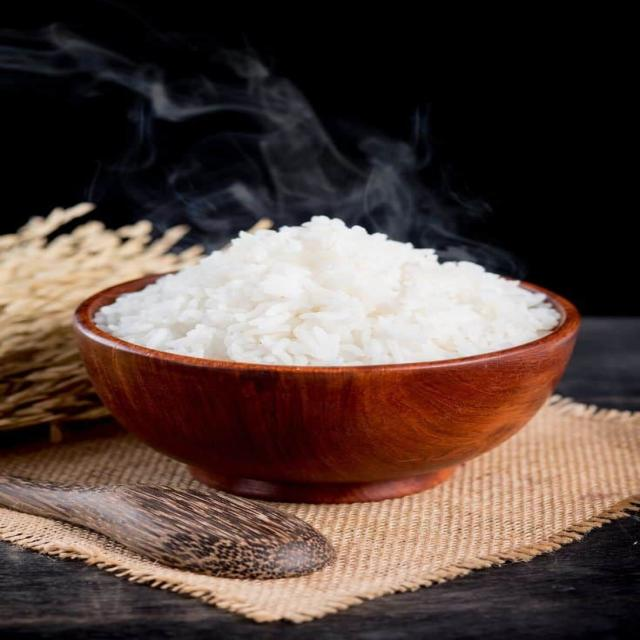rice: (95, 217, 559, 365)
